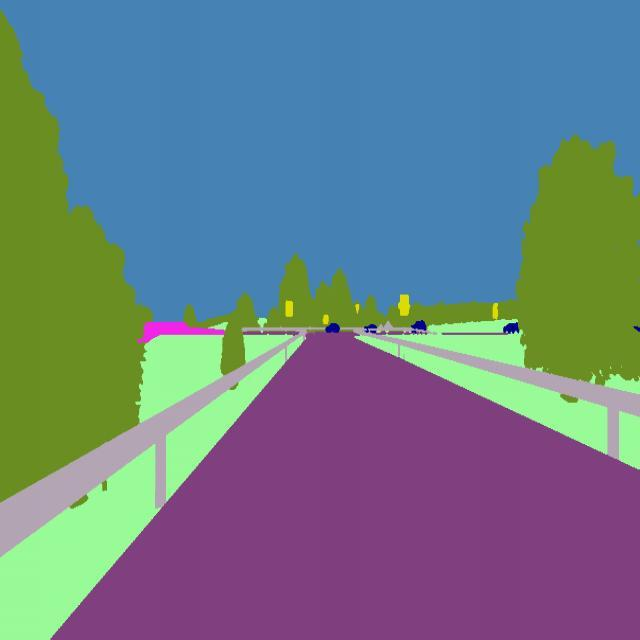safe: (501, 316, 526, 336), (408, 318, 430, 336), (322, 318, 342, 336), (357, 321, 380, 336)
